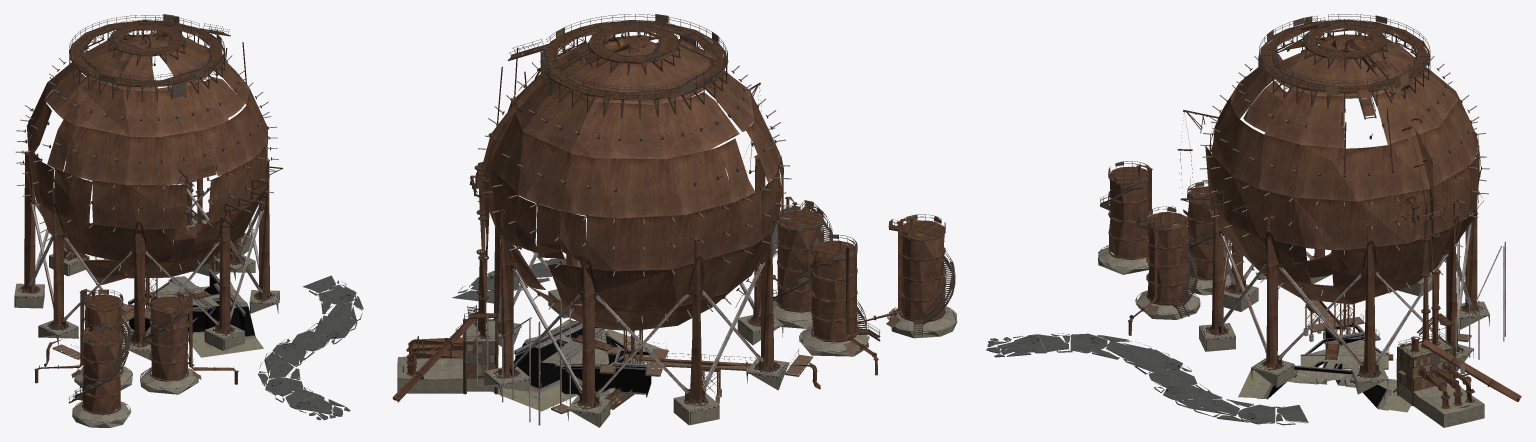
File: sphere_tank-map.glb
The picture shows the model from 3 angles, left to right: view 1: azimuth 30°, elevation 25°; view 2: azimuth 150°, elevation 25°; view 3: azimuth 270°, elevation 25°; orthographic projection. The views are drawn at different scales.
Parts seen in each view (by area): view 1: spheretank_walkway_f_LOD0, sphere_pillars_LOD0, road_nopavement_9x15_end_LOD0, sewer_drainwall_600_bridge_LOD0, top_walkways_LOD0, stairs_barrier_600; view 2: spheretank_walkway_f_LOD0, sphere_pillars_LOD0, sewer_drainwall_600_bridge_LOD0, top_walkways_LOD0, stairs_barrier_600, road_nopavement_9x15_end_LOD0, pipeline_100x300_up600_LOD0; view 3: spheretank_walkway_f_LOD0, sphere_pillars_LOD0, road_nopavement_9x15_end_LOD0, sewer_drainwall_600_bridge_LOD0, top_walkways_LOD0, stairs_barrier_600, pipeline_100x300_up600_LOD0.
Part boxes in pixels (<box>): spheretank_walkway_f_LOD0: <box>14,15,282,423</box>; sphere_pillars_LOD0: <box>14,40,279,427</box>; road_nopavement_9x15_end_LOD0: <box>258,275,363,420</box>; sewer_drainwall_600_bridge_LOD0: <box>128,269,263,357</box>; top_walkways_LOD0: <box>69,14,221,388</box>; stairs_barrier_600: <box>52,287,152,359</box>; spheretank_walkway_f_LOD0: <box>392,14,956,425</box>; sphere_pillars_LOD0: <box>397,48,957,427</box>; sewer_drainwall_600_bridge_LOD0: <box>492,319,669,411</box>; top_walkways_LOD0: <box>428,14,955,402</box>; stairs_barrier_600: <box>551,342,813,414</box>; road_nopavement_9x15_end_LOD0: <box>452,210,792,303</box>; pipeline_100x300_up600_LOD0: <box>622,329,820,403</box>; spheretank_walkway_f_LOD0: <box>1098,14,1521,408</box>; sphere_pillars_LOD0: <box>1098,40,1505,427</box>; road_nopavement_9x15_end_LOD0: <box>986,333,1308,425</box>; sewer_drainwall_600_bridge_LOD0: <box>1238,321,1411,412</box>; top_walkways_LOD0: <box>1108,15,1465,390</box>; stairs_barrier_600: <box>1255,272,1471,345</box>; pipeline_100x300_up600_LOD0: <box>1303,303,1355,341</box>.
Bounding box in the file's own units: 88.35 × 74.24 × 110.
Materials: 21 (21 with a texture image).
